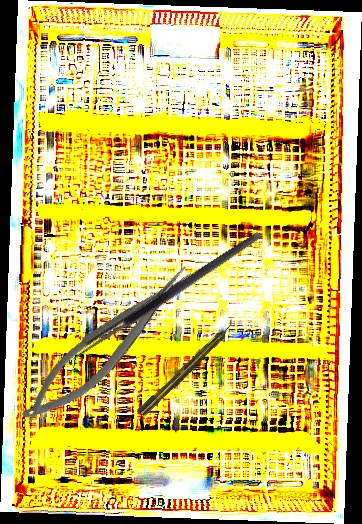Handpiece: (134, 317, 240, 420)
Hook Surgical: (66, 229, 269, 376)
Needle Holder: (8, 257, 208, 435)
